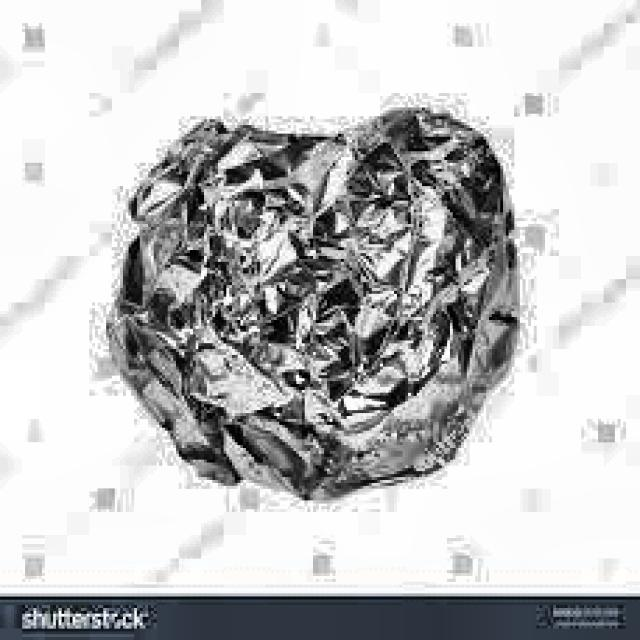Foil: (88, 75, 540, 523)
